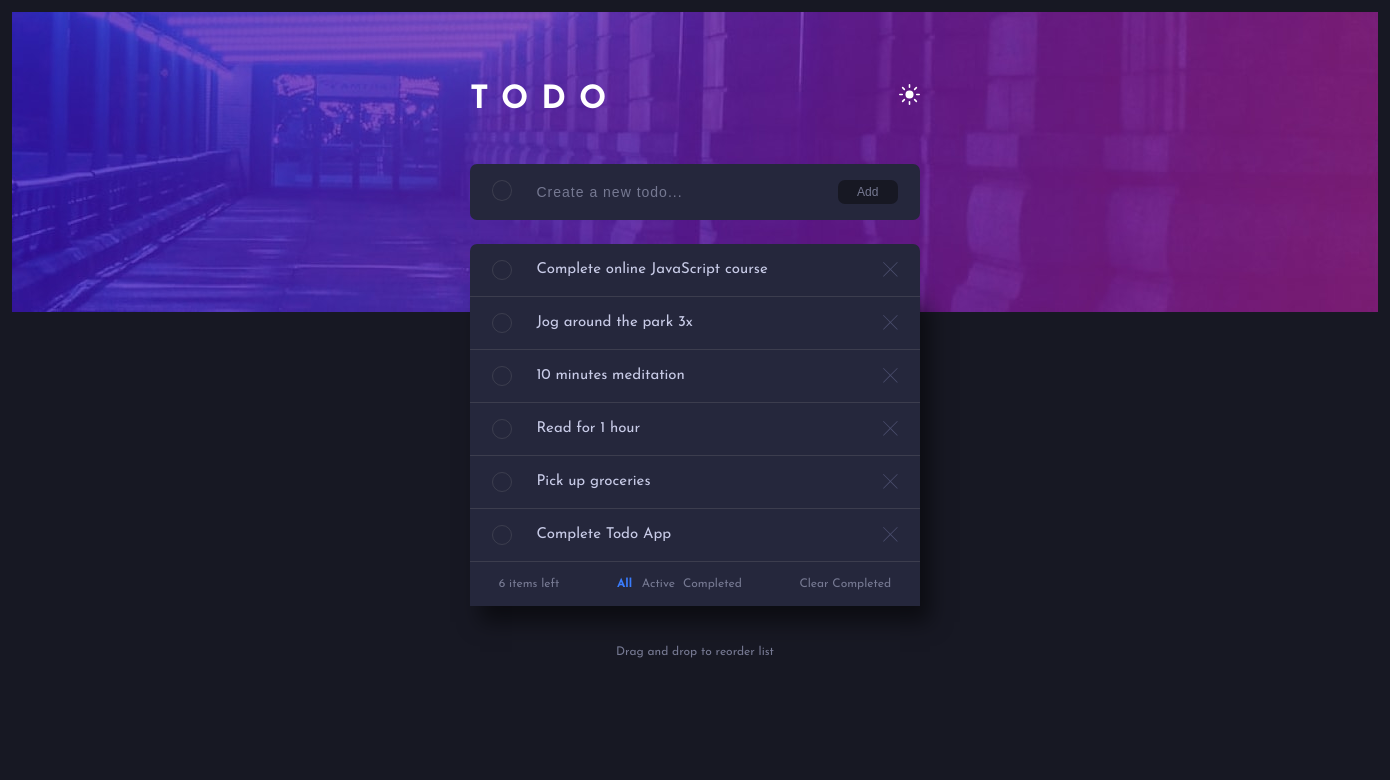
Test case: adding a todo item › a new todo item should be added to the top of the todos list
In the field with test id "create-new-todo": (688, 192) [537,180,838,204], type "do laundry"
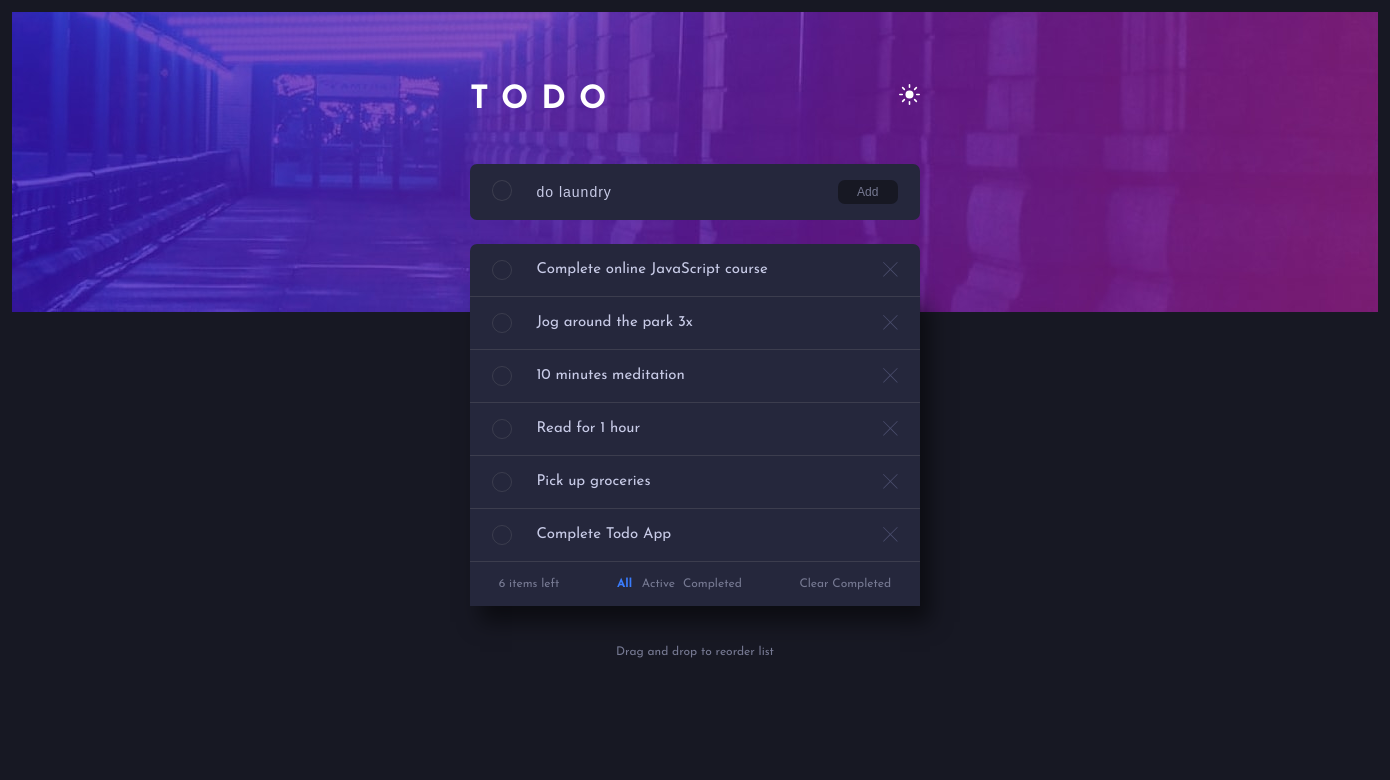
Click the button with test id "add-btn": (868, 192) [838,180,898,204]
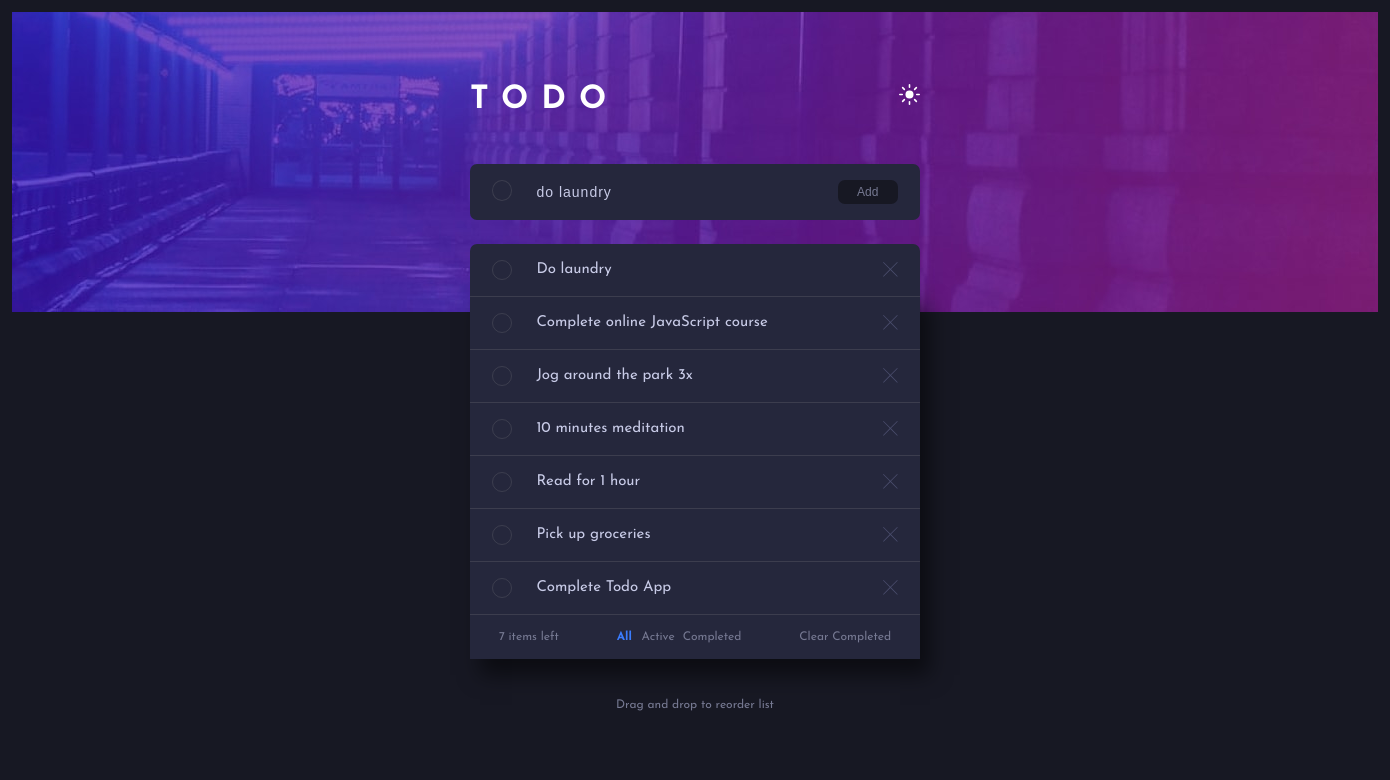
Result: the text with test id "todo-item" reads "Do laundry" at [536,262,611,277]
